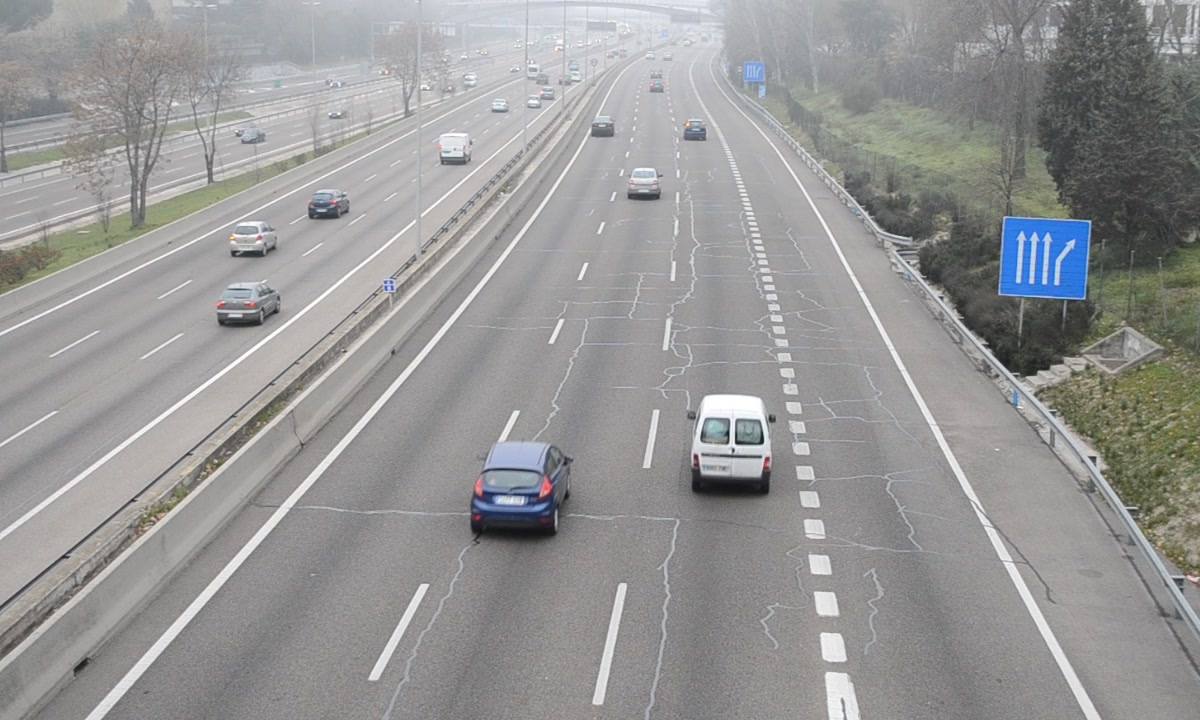car: (470, 441, 570, 533), (627, 167, 662, 199), (589, 114, 616, 139), (683, 118, 707, 140)
van: (693, 394, 772, 492)
